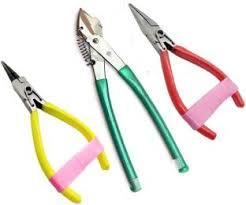pliers: (126, 1, 244, 139)
